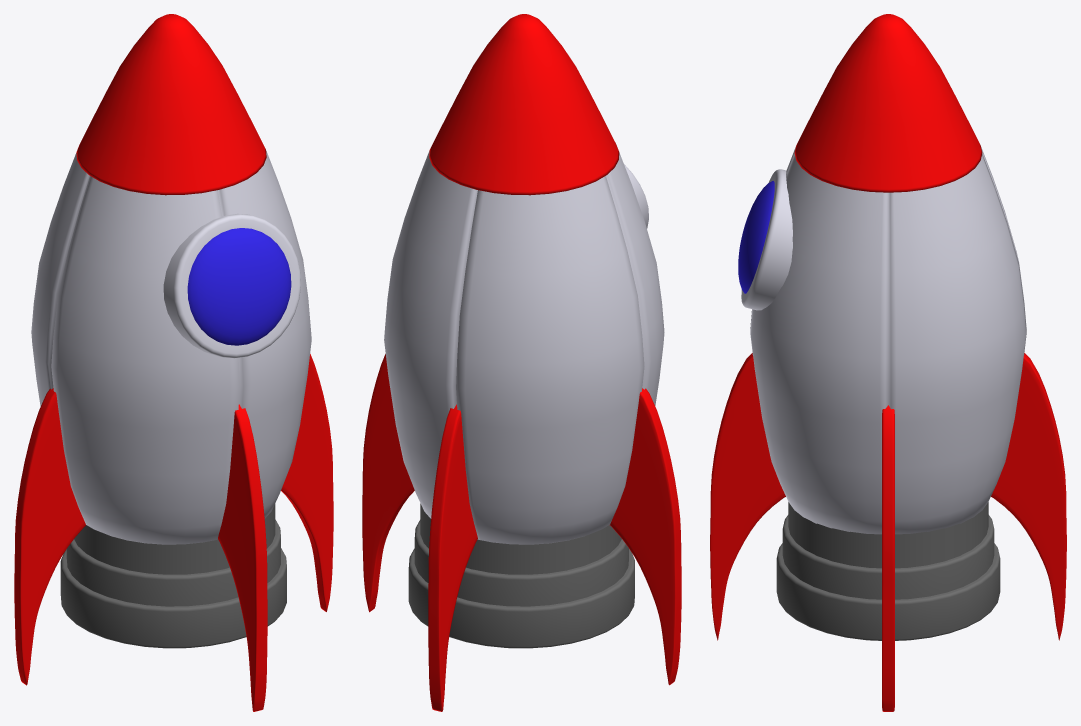
File: Toy_Rocket4.1.gltf
3 renders of one model, left to right at view 1: azimuth 30°, elevation 25°; view 2: azimuth 150°, elevation 25°; view 3: azimuth 270°, elevation 25°, orthographic.
Visible parts, largest first — view 1: Body, Wings, Tip, Engine, Window.001, Window; view 2: Body, Wings, Tip, Engine; view 3: Body, Wings, Tip, Engine, Window, Window.001.
Part boxes in pixels (bbox=[...]): Body: bbox=[31, 150, 311, 544]; Wings: bbox=[14, 354, 333, 711]; Tip: bbox=[76, 14, 266, 195]; Engine: bbox=[60, 504, 286, 648]; Window.001: bbox=[187, 228, 291, 345]; Window: bbox=[163, 213, 300, 358]; Body: bbox=[384, 150, 664, 544]; Wings: bbox=[362, 354, 681, 711]; Tip: bbox=[429, 14, 619, 195]; Engine: bbox=[408, 503, 634, 648]; Body: bbox=[750, 147, 1026, 534]; Wings: bbox=[710, 353, 1066, 711]; Tip: bbox=[794, 14, 982, 192]; Engine: bbox=[776, 502, 1000, 640]; Window: bbox=[741, 169, 792, 310]; Window.001: bbox=[738, 181, 774, 293].
Size of the model in its own units: 1.63 by 3.12 by 1.63.
